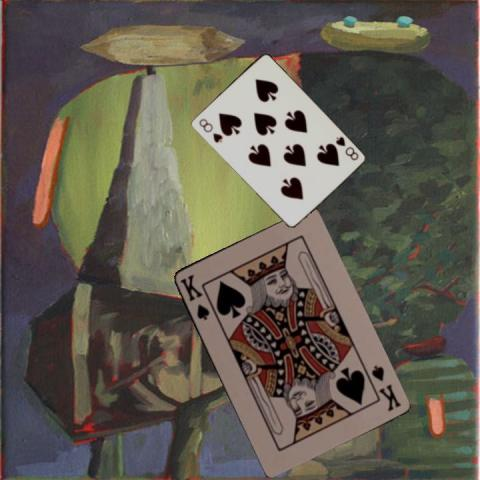8s: (195, 115, 224, 144), (332, 133, 360, 162)
Ks: (176, 271, 210, 322), (368, 362, 402, 413)
